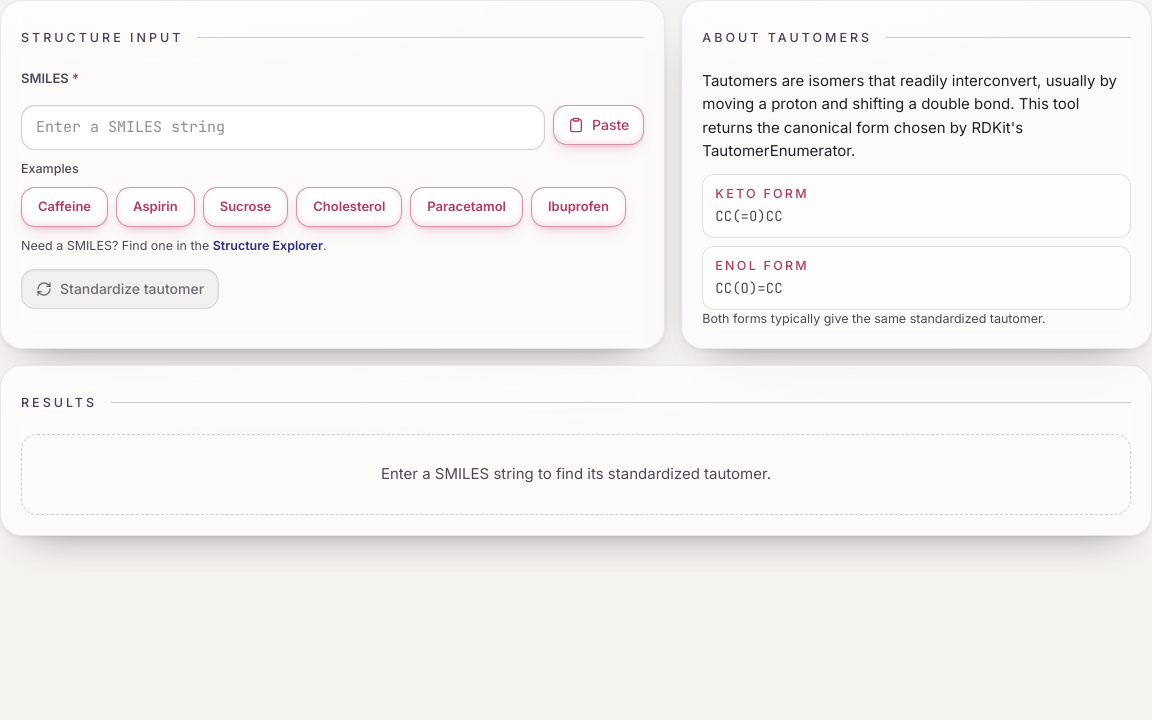
Test case: StandardizedTautomerView (bento) › shows the original and the standardized tautomer in the results panel
Type "CC(O)=CC" into the field labelled "SMILES *" at (283, 127), box [21,104,545,150]
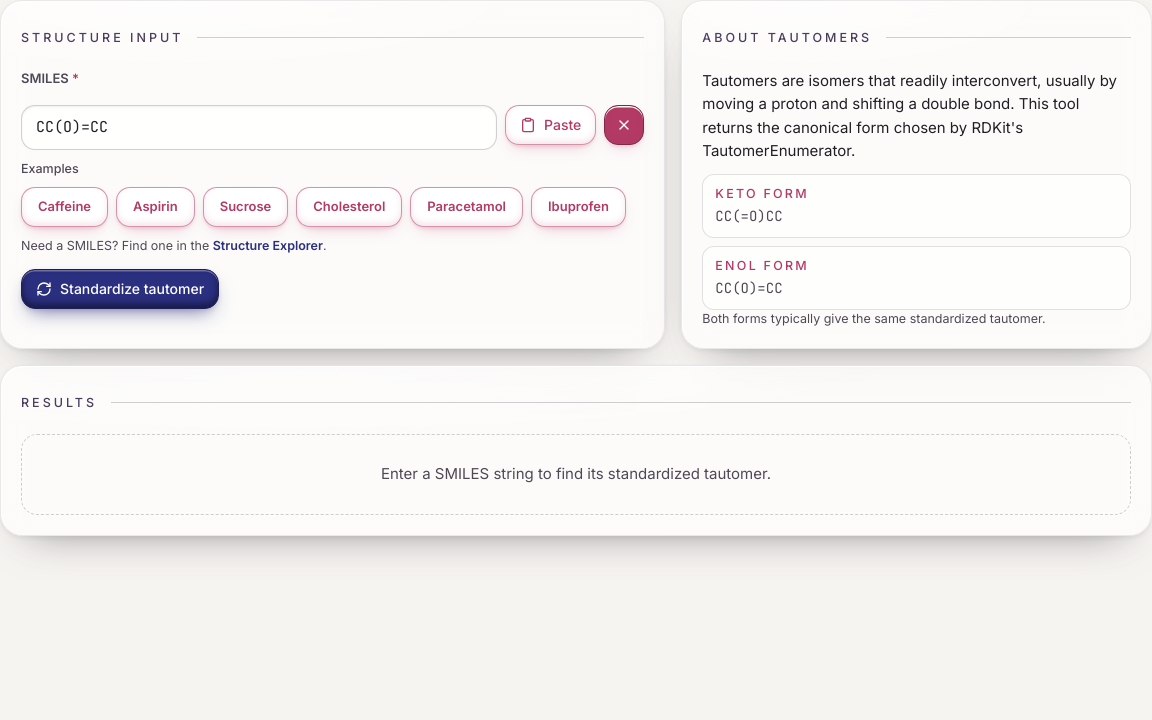
Click the button "Standardize tautomer" at (120, 289), box [21,269,219,309]
(page scrolled)
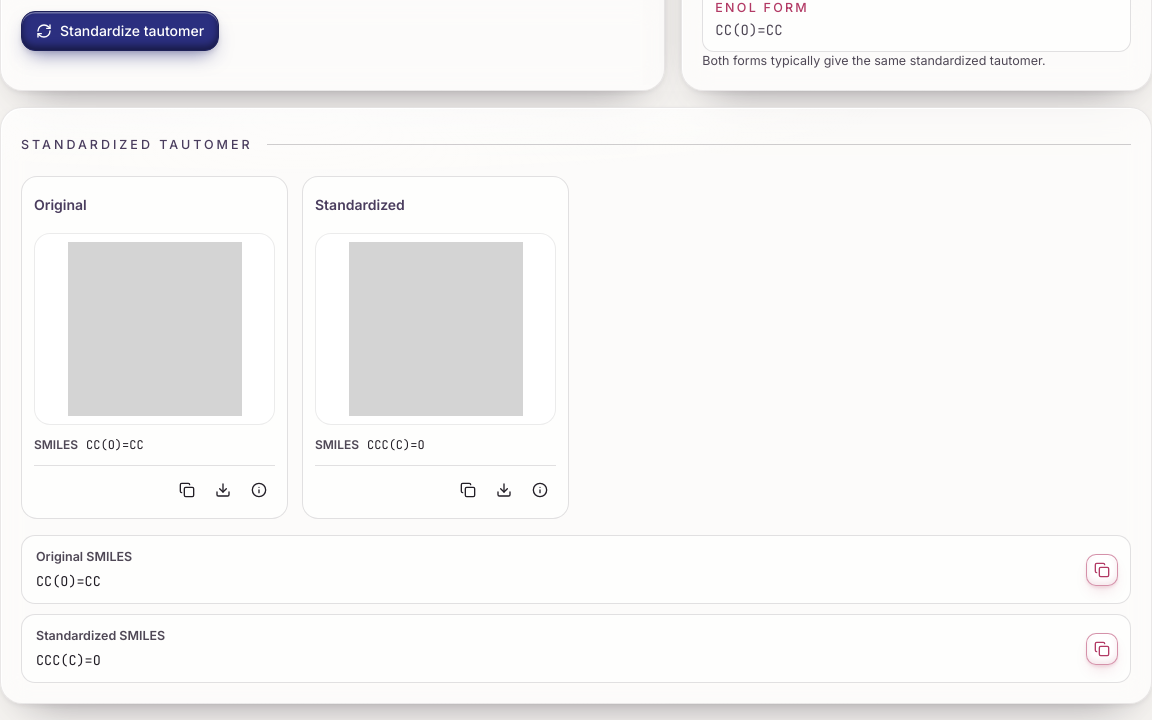
expect the text "CCC(C)=O" is shown: met, box [367,437,425,453]
expect the 2nd text "CC(O)=CC" is shown: met, box [86,437,144,453]
expect the text "Standardized SMILES" is shown: met, box [36,628,165,643]
